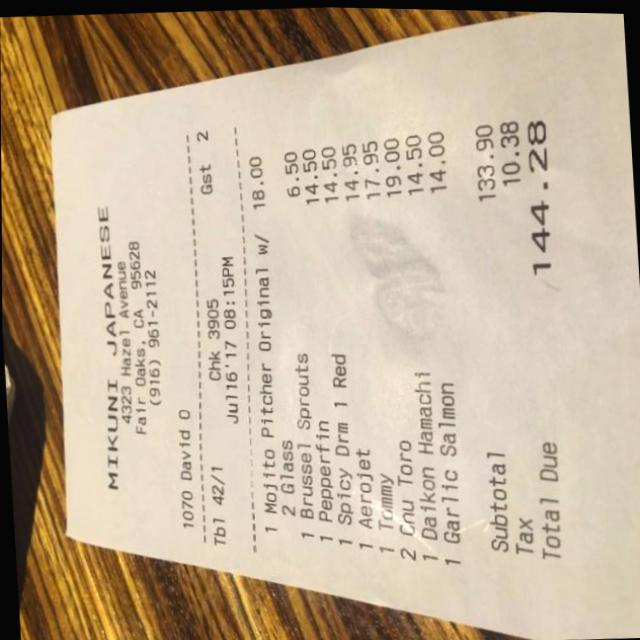Paper: (29, 1, 640, 640)
